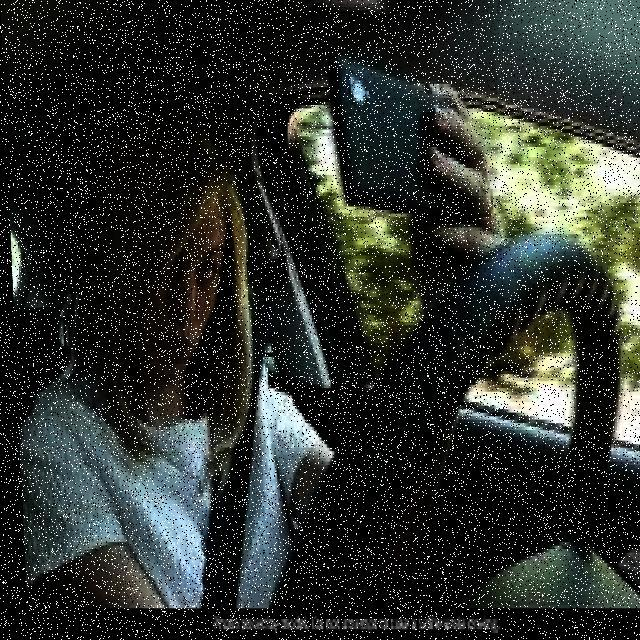seatbelt: (120, 336, 304, 626)
